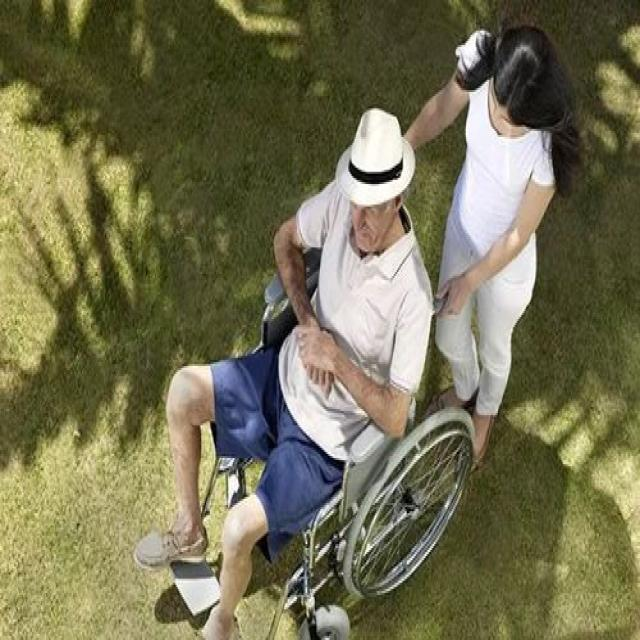wheelchairs: (157, 211, 484, 640)
